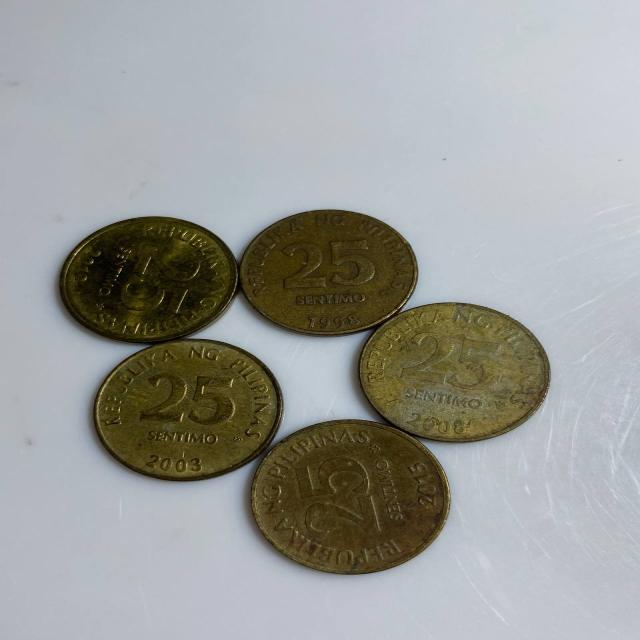25Cent_Old_Front: (296, 456, 392, 540), (403, 326, 505, 390), (143, 370, 237, 428), (285, 237, 379, 289), (125, 251, 195, 315)
